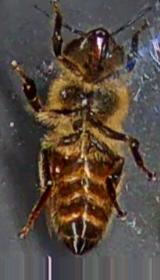varroa_mite: (47, 150, 68, 173)
